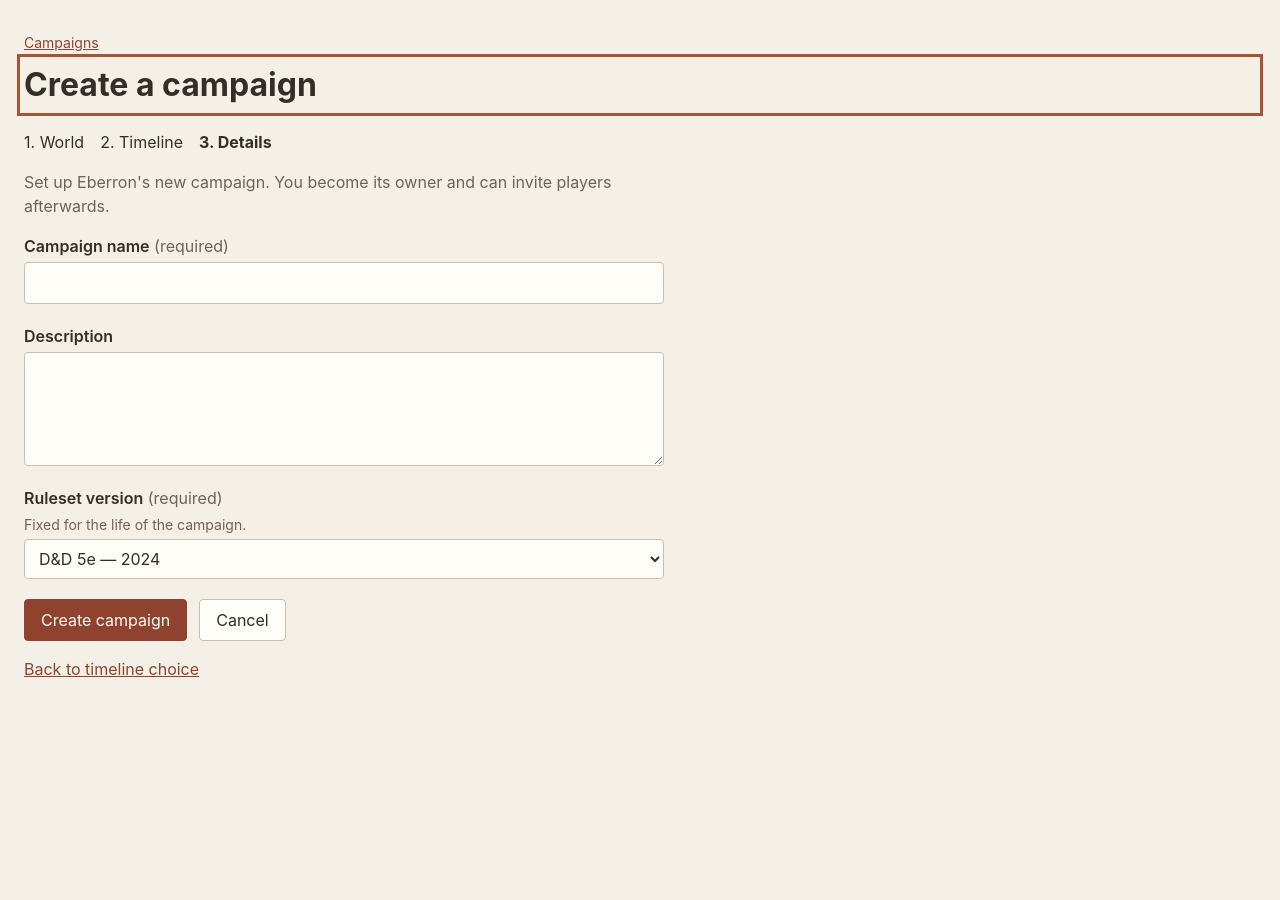
it: CampaignSetupPage › never navigates on a guess: if the bootstrap refresh fails it offers to open the campaign
The width and height of the screenshot is (1280, 900).
Type "Fresh" into the field labelled "Campaign name (required)" at (344, 283), box [24,262,664,304]
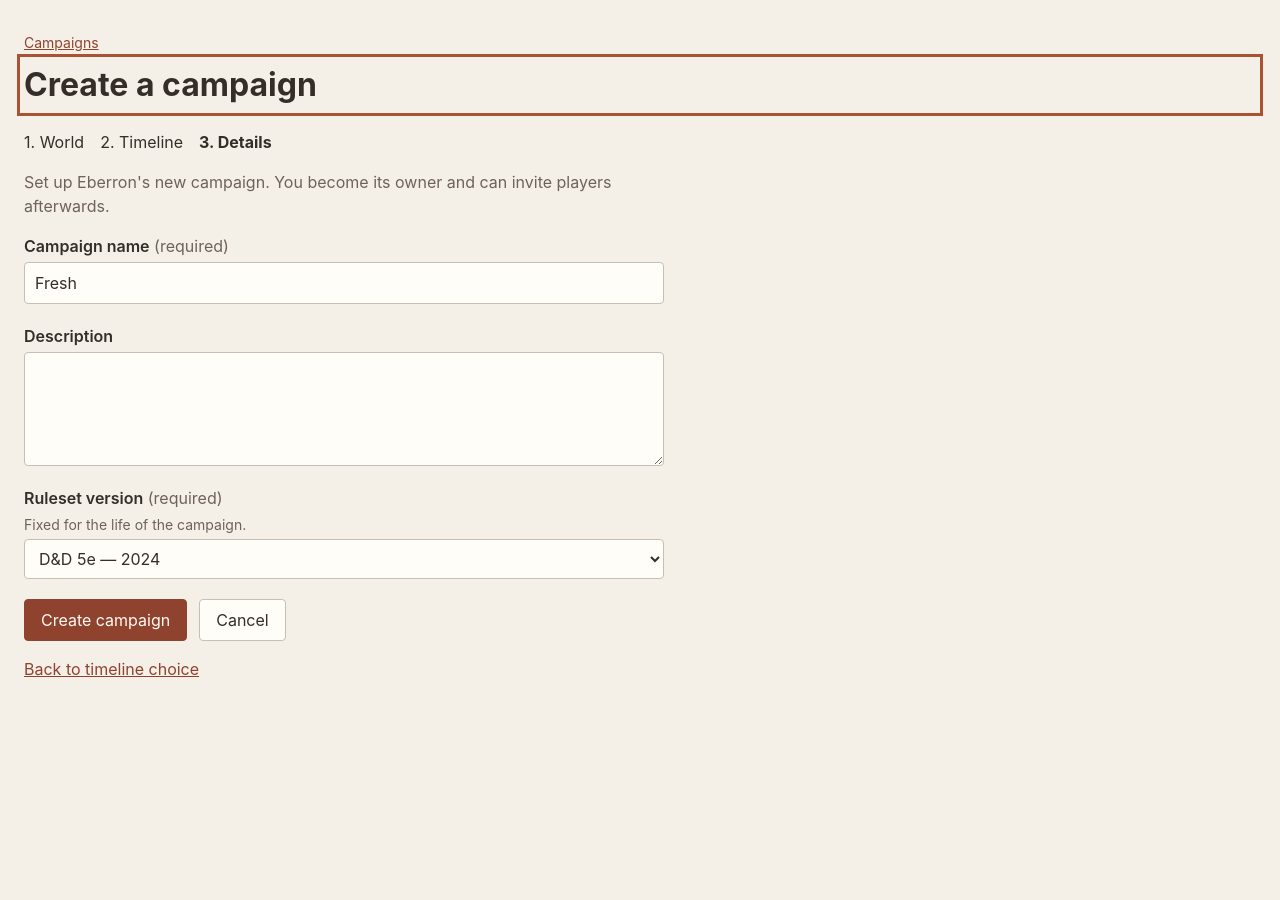
Click the button "Create campaign" at (106, 620), box [24,599,187,641]
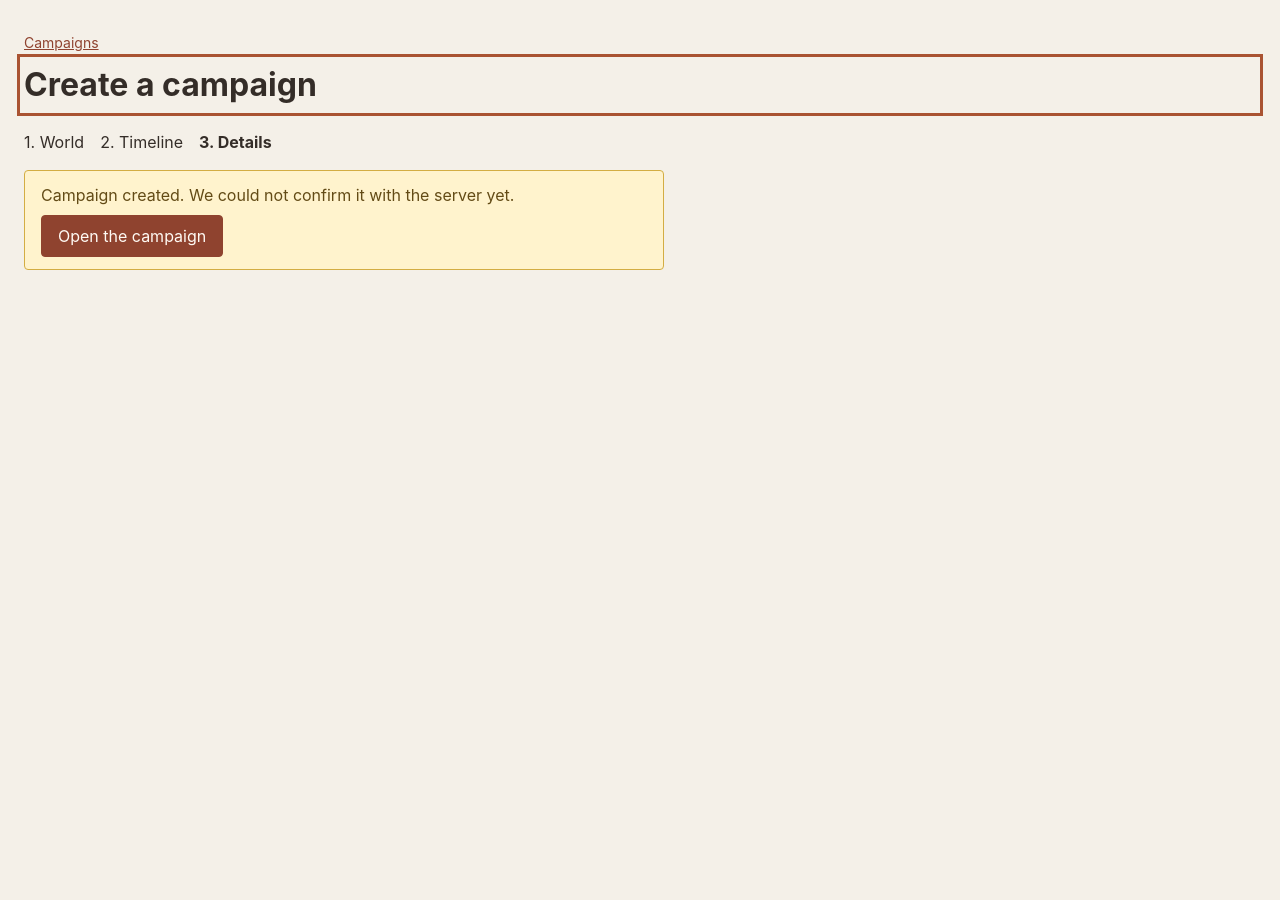
Check: the button "Open the campaign" is shown, box [41,215,223,257]
Check: the message shows "Campaign created.", box [41,185,514,205]
